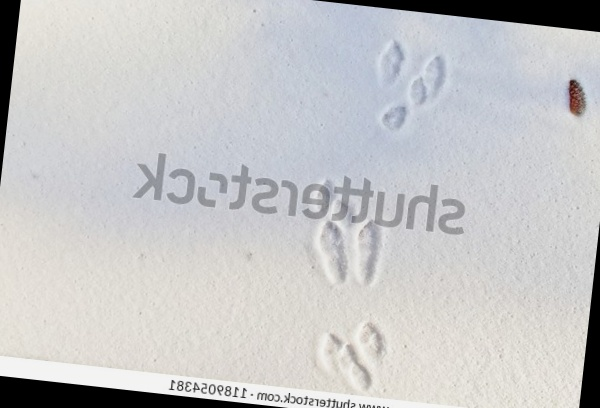rabbit: (347, 35, 464, 158)
